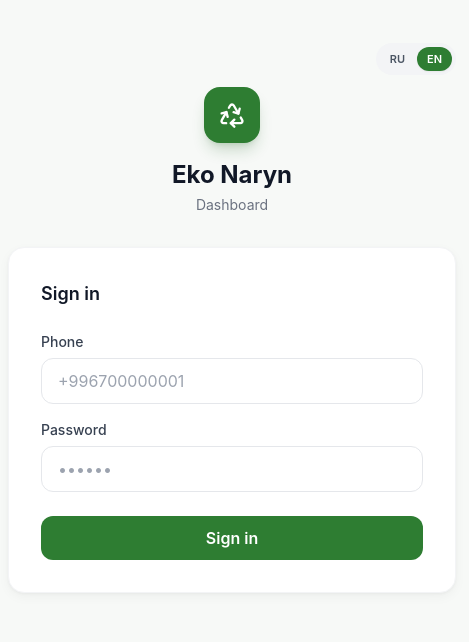
Test case: LoginPage › suspended worker is shown the API "account is suspended" message
Step 1. Type "+996700000002" into the field with placeholder "+996700000001" → (232, 381), box [41, 358, 423, 404]
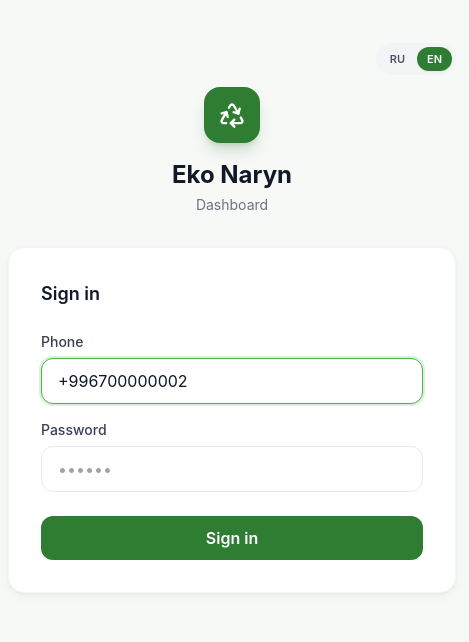
Step 2. Type "whatever" into the password field with placeholder "••••••" → (232, 469), box [41, 446, 423, 492]
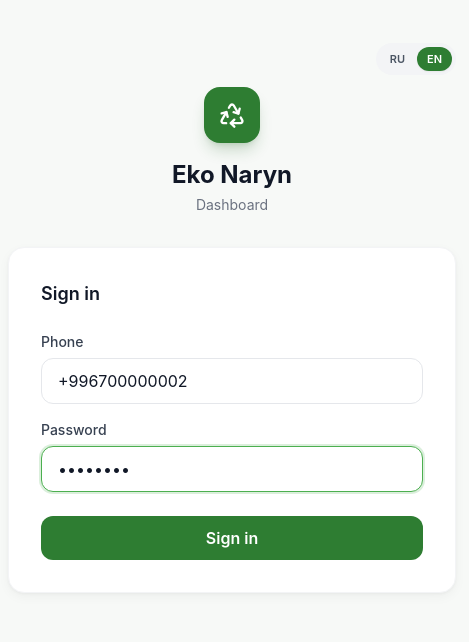
Step 3. Click the button "Sign in" → (232, 538), box [41, 516, 423, 560]
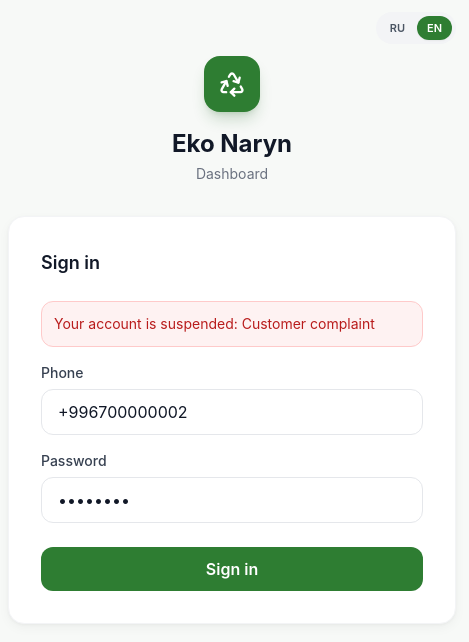
Now the text "Your account is suspended: Customer complaint" is shown, box [41, 301, 423, 347]
